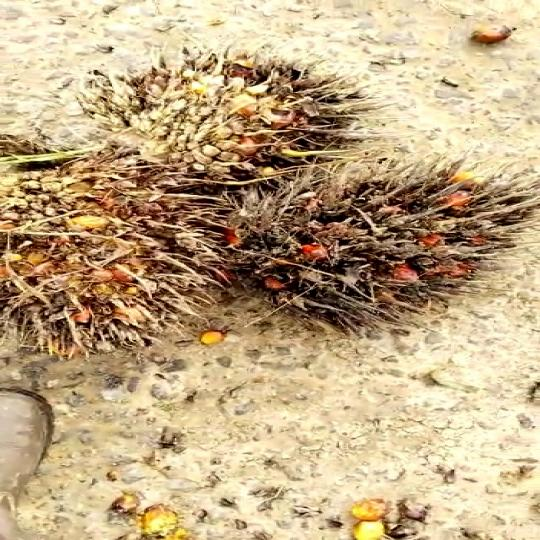terlalu masak: (178, 163, 540, 334), (56, 58, 361, 185)
